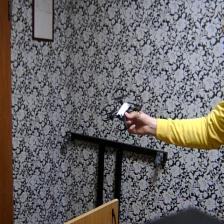drone: (100, 86, 144, 134)
